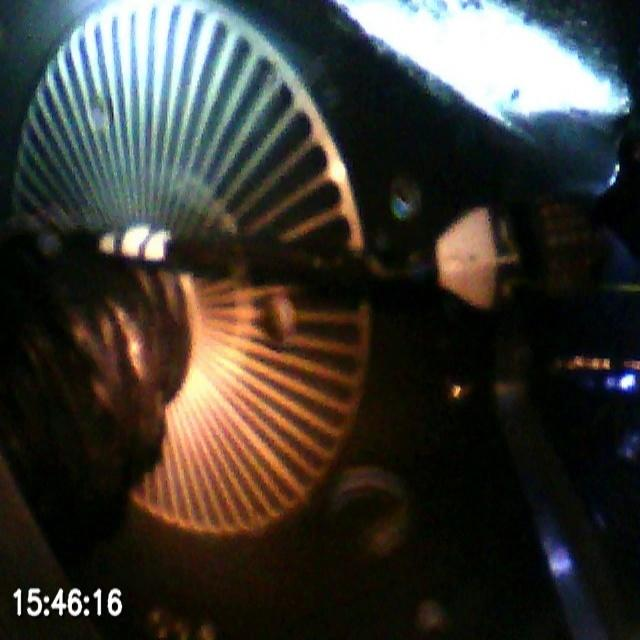head: (435, 198, 618, 308)
white-dots: (98, 224, 172, 262)
